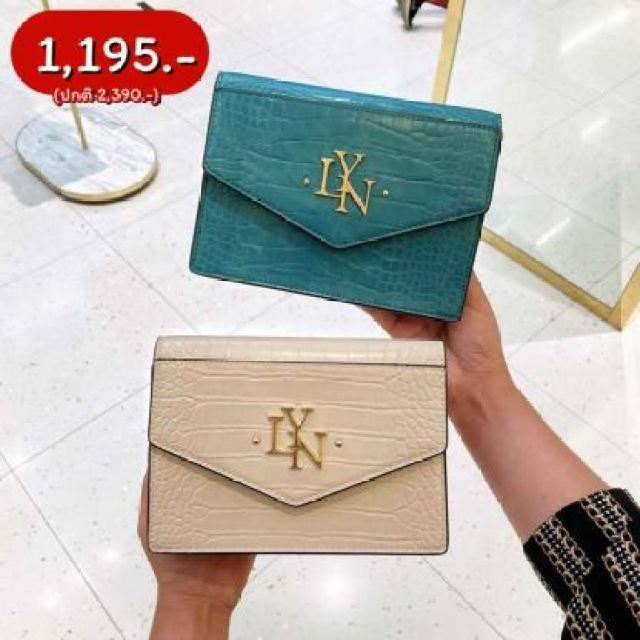Bag: (160, 48, 522, 332), (116, 317, 476, 572)
